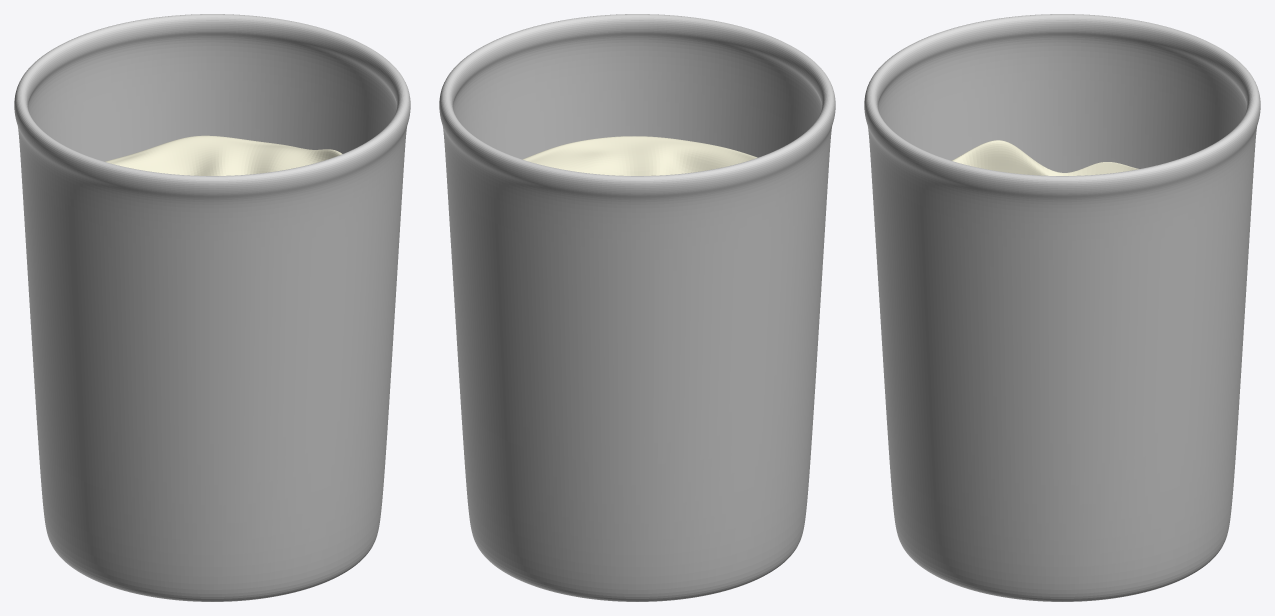
File: candle.glb
3 views of the same model, side by side, from view 1: azimuth 30°, elevation 25°; view 2: azimuth 150°, elevation 25°; view 3: azimuth 270°, elevation 25° (orthographic).
Parts seen in each view (by area): view 1: Glass_2, Candle_3; view 2: Glass_2, Candle_3; view 3: Glass_2, Candle_3.
Boxes of the visible parts, left/top/right/bottom form: Glass_2: left=14, top=14, right=410, bottom=601; Candle_3: left=105, top=135, right=342, bottom=175; Glass_2: left=439, top=14, right=835, bottom=601; Candle_3: left=522, top=136, right=757, bottom=175; Glass_2: left=864, top=14, right=1260, bottom=601; Candle_3: left=951, top=140, right=1138, bottom=175.
Bounding box in the file's own units: 0.1409 × 0.1722 × 0.1409.
